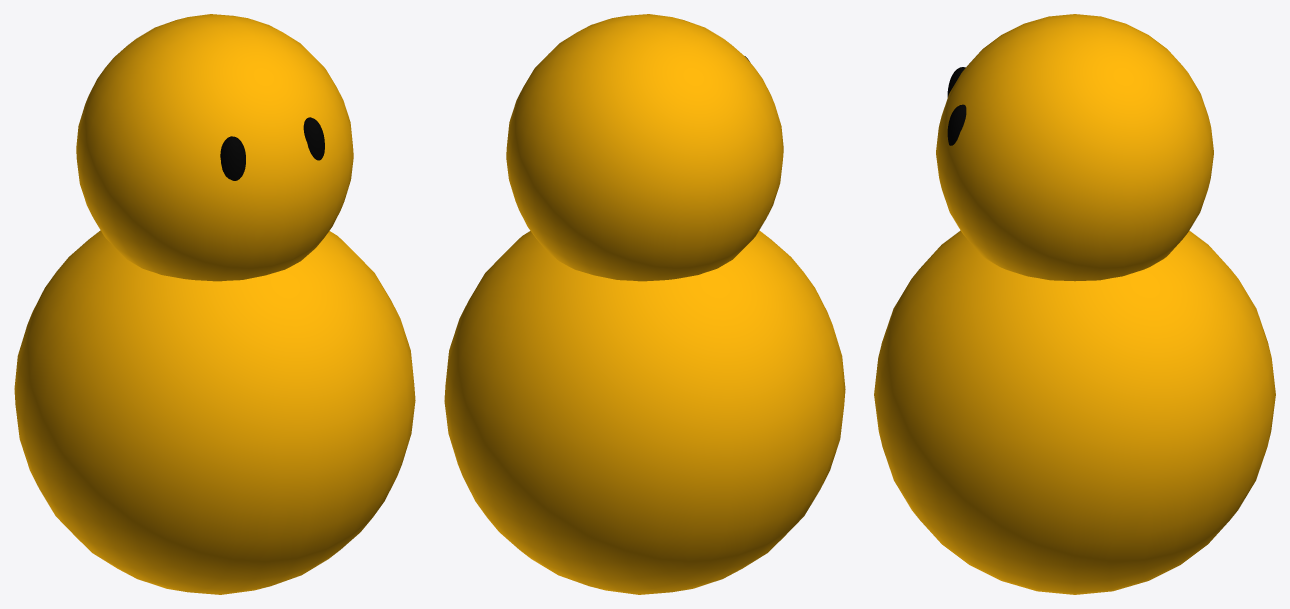
The model's file is PlayerVisual.glb.
3 views of the same model, side by side, from view 1: azimuth 30°, elevation 25°; view 2: azimuth 150°, elevation 25°; view 3: azimuth 270°, elevation 25° (orthographic).
Parts seen in each view (by area): view 1: Body, Head, Eye_R, Eye_L; view 2: Body, Head; view 3: Body, Head, Eye_L.
Boxes of the visible parts, x1,y1,x2,y2 form: Body: (14, 230, 415, 594); Head: (76, 14, 353, 281); Eye_R: (220, 136, 245, 180); Eye_L: (303, 117, 324, 160); Body: (444, 230, 845, 594); Head: (506, 14, 783, 281); Body: (874, 230, 1275, 594); Head: (936, 14, 1213, 281); Eye_L: (947, 104, 966, 145).
Size of the model in its own units: 1.3 by 1.96 by 1.3.
